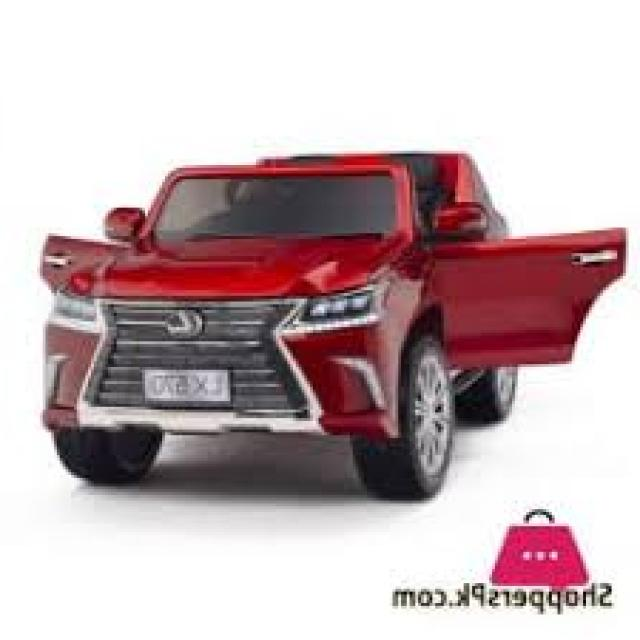Car: (39, 148, 628, 501)
